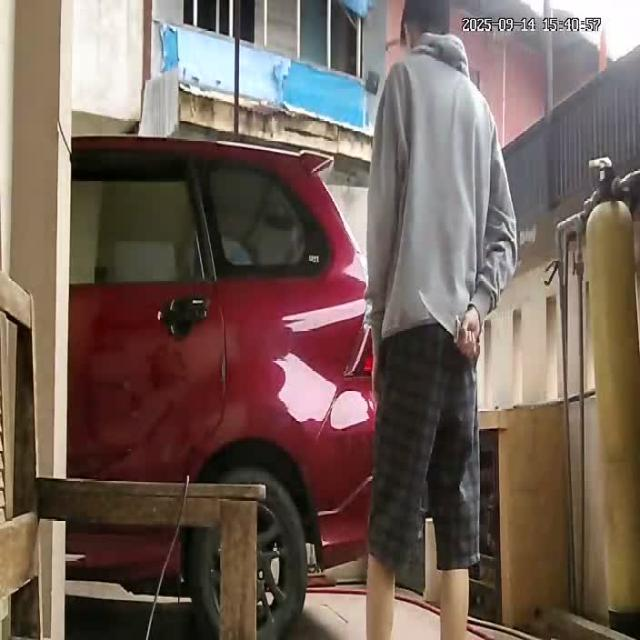senjata_tajam: (416, 286, 463, 344)
